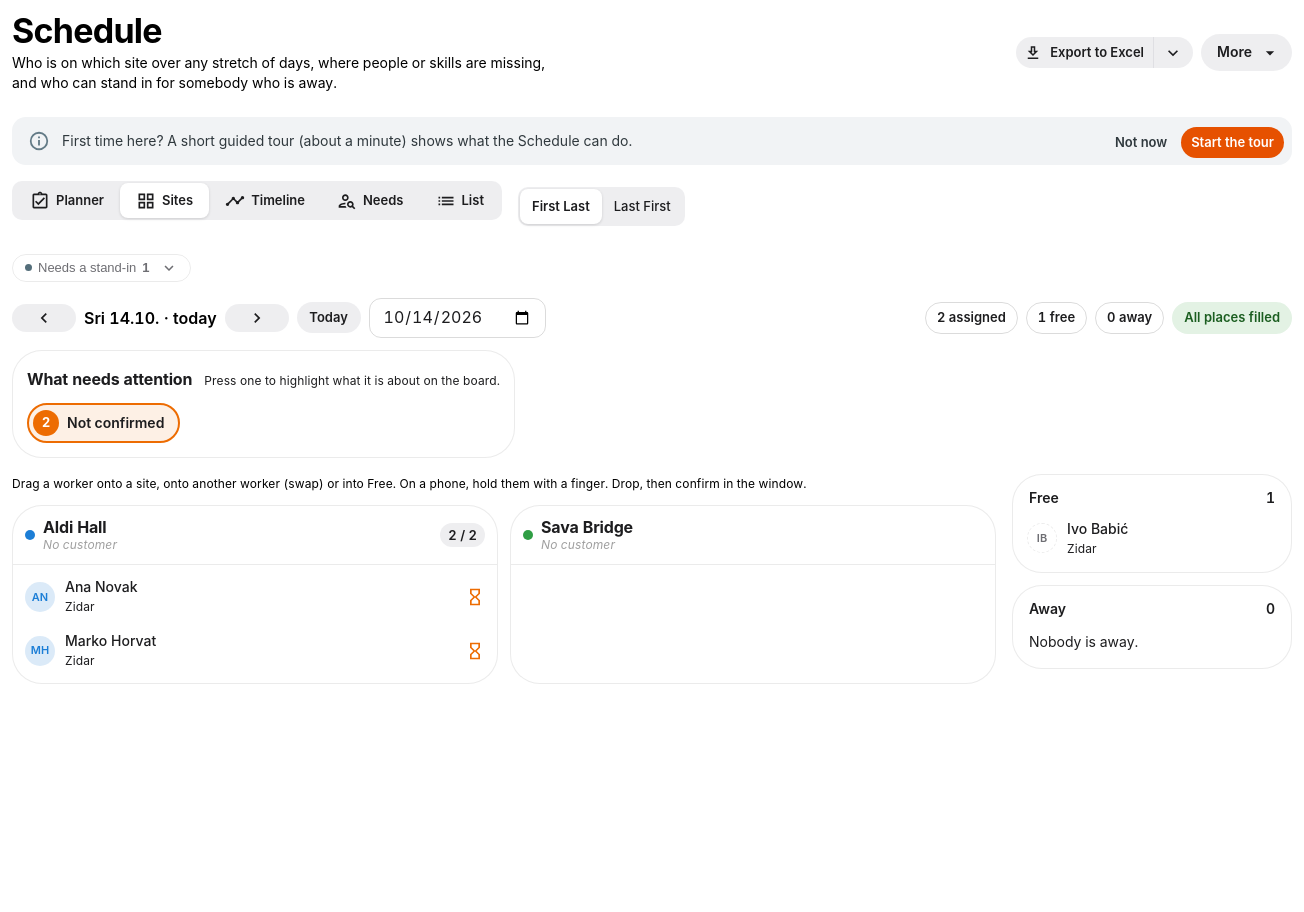
Planner tab › shows capacity for eight weeks, with the what-if calculation
Click the button "Planner" at (67, 201), box left=14, top=183, right=120, bottom=218
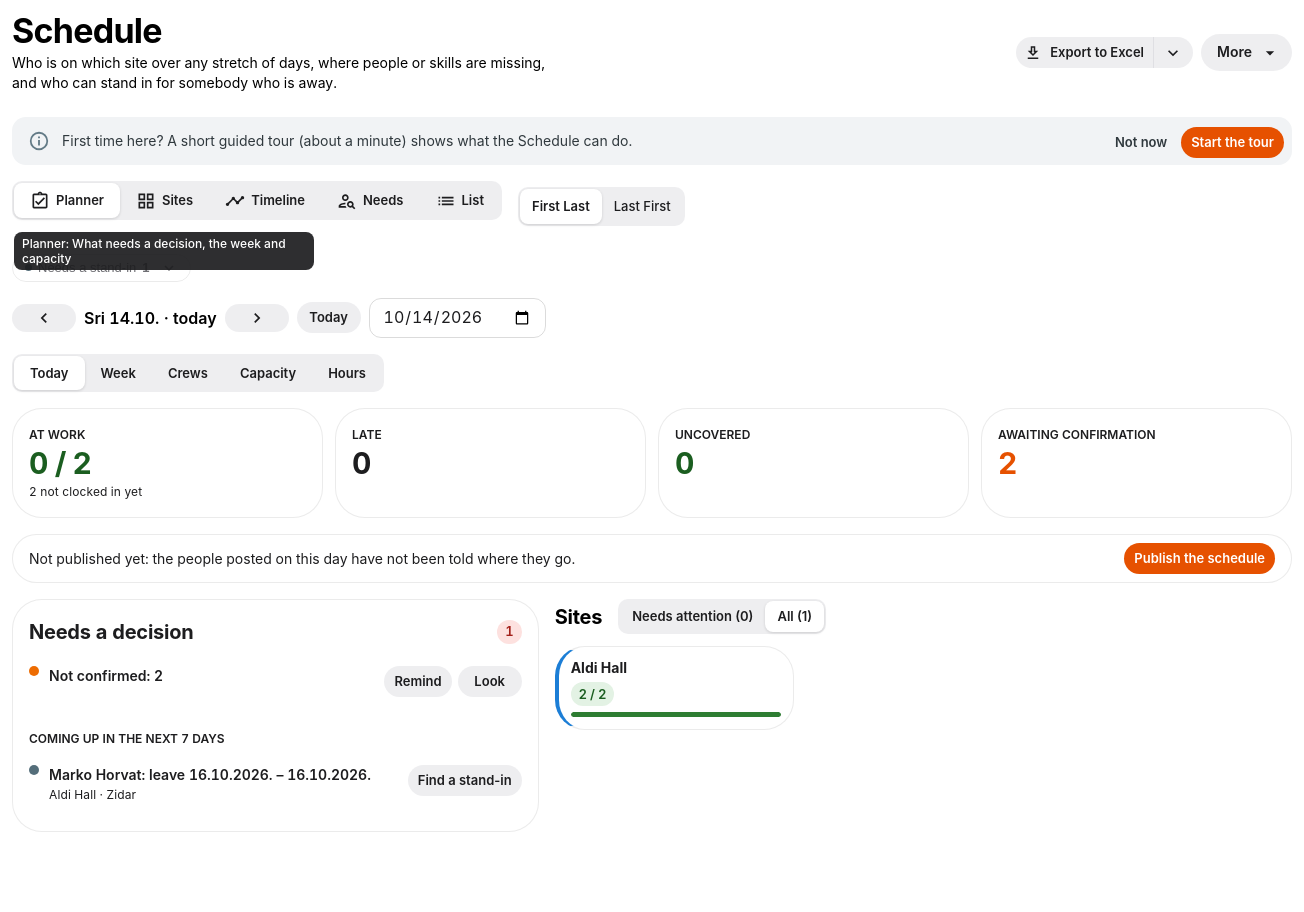
Click the button "Capacity" at (268, 373), box left=224, top=356, right=312, bottom=390
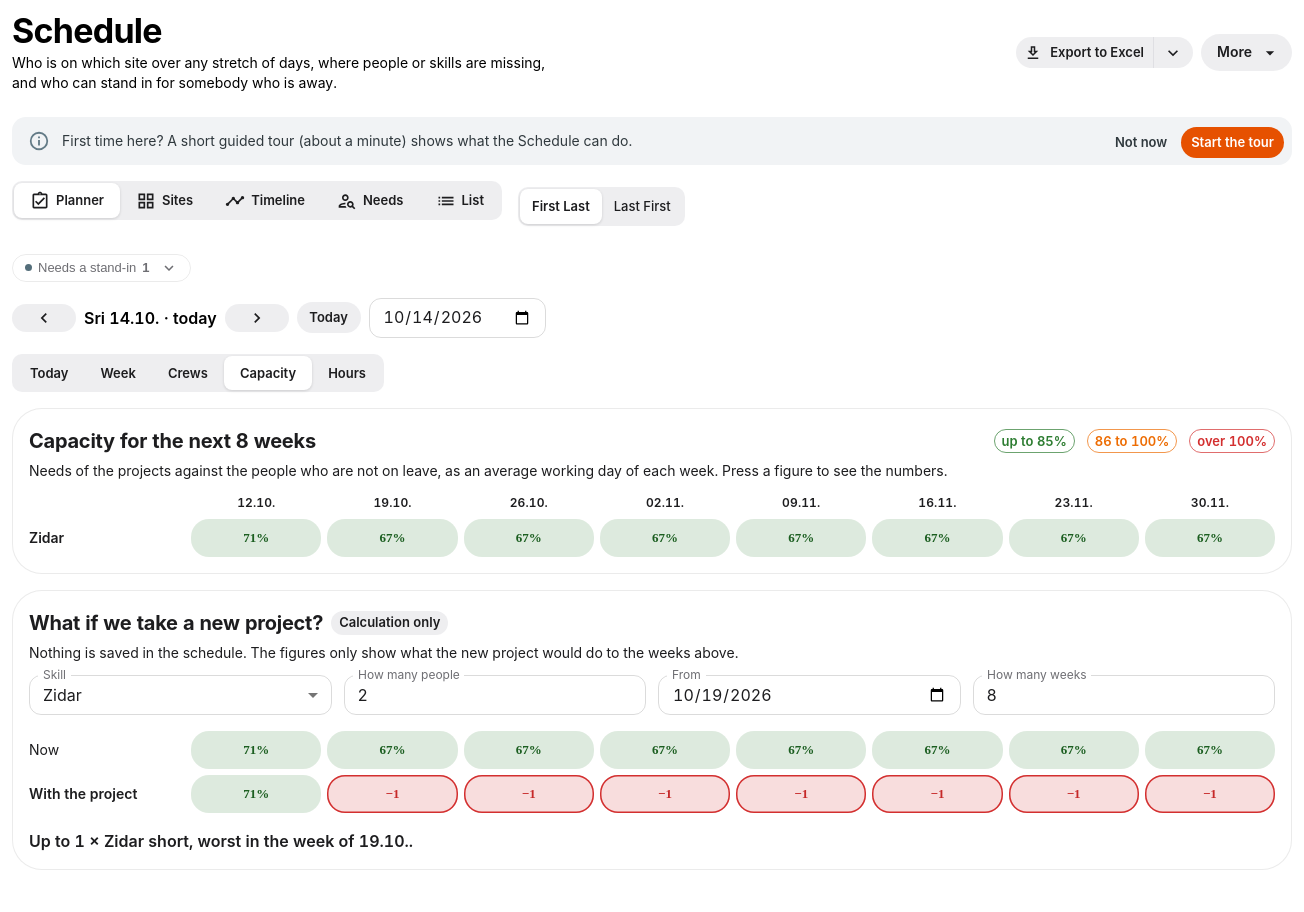
Now the heading "Capacity for the next 8 weeks" is shown, box left=29, top=425, right=316, bottom=457
Now the heading "What if we take a new project?" is shown, box left=29, top=607, right=323, bottom=639
